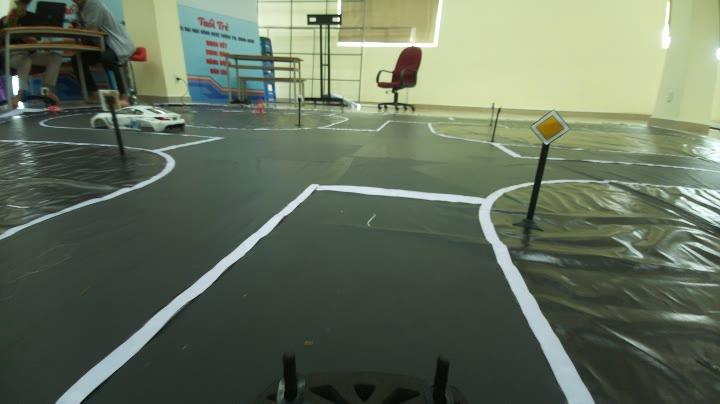priority: (522, 106, 574, 148)
